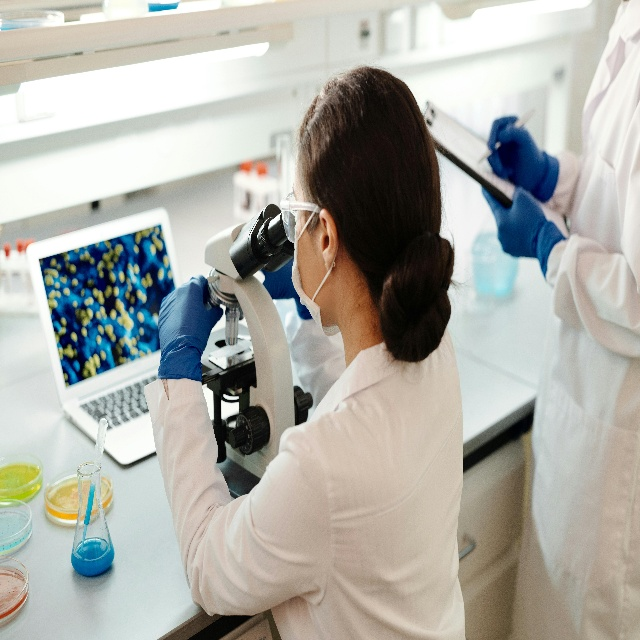Gafas: (279, 189, 319, 246)
Guantes: (481, 186, 567, 280), (156, 273, 223, 380), (485, 112, 559, 203), (260, 255, 312, 320)
Mascara: (291, 205, 341, 340)
